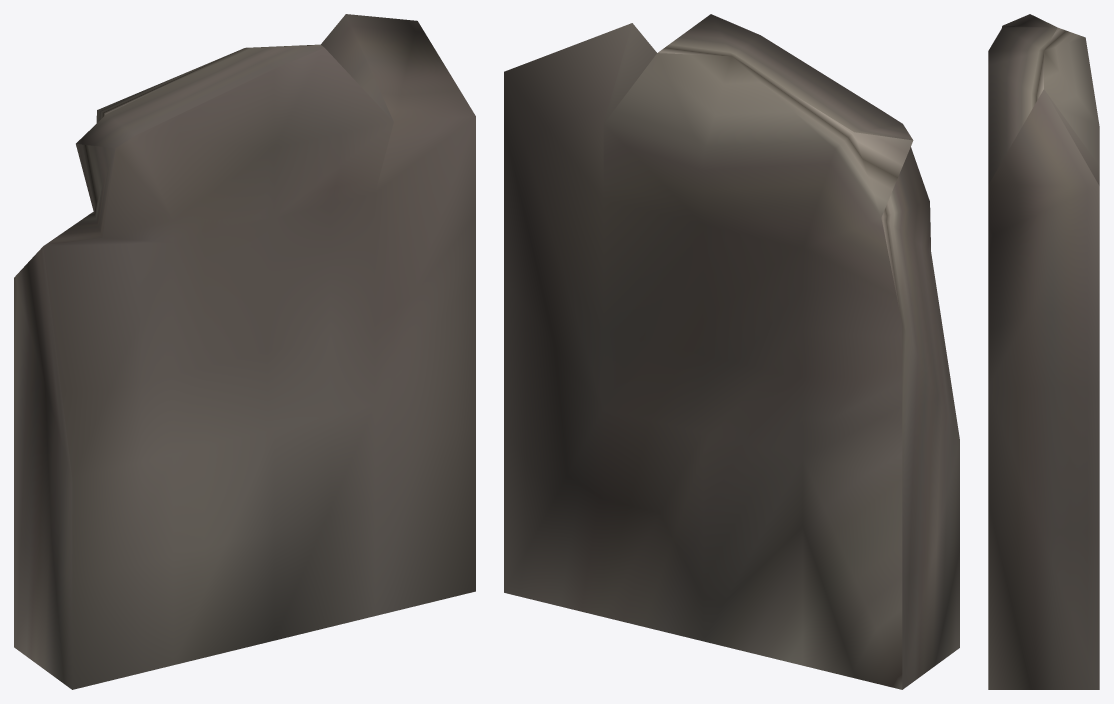
The model's file is ruin7.glb.
3 views of the same model, side by side, from view 1: azimuth 30°, elevation 25°; view 2: azimuth 150°, elevation 25°; view 3: azimuth 270°, elevation 25° (orthographic). The views are drawn at different scales.
Parts seen in each view (by area): view 1: ruin7; view 2: ruin7; view 3: ruin7.
Part boxes in pixels (box(x1,y1,x2,y2)): ruin7: box(14, 14, 475, 689); ruin7: box(504, 14, 959, 689); ruin7: box(988, 14, 1099, 689).
Bounding box in the file's own units: 4 × 5.5 × 1.
1 material, 1 textured.
